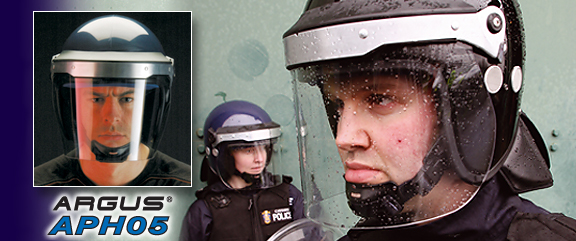helmet: (282, 1, 527, 130), (51, 16, 186, 100)
